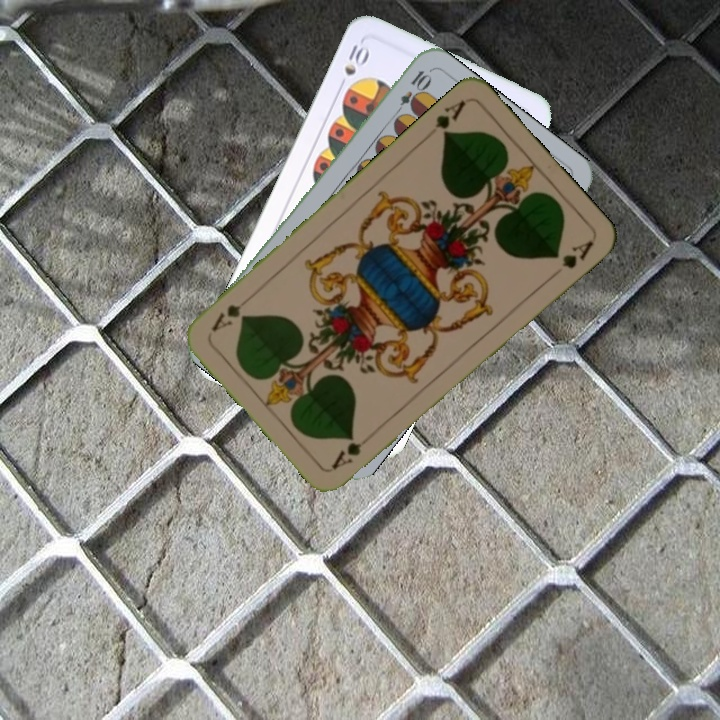E10: (390, 66, 433, 120)
GA: (327, 428, 377, 473), (431, 95, 469, 140)
S10: (334, 40, 372, 93)
